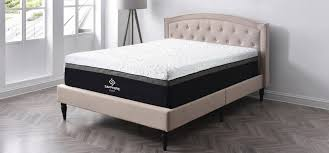bed-matress: (63, 36, 263, 109)
